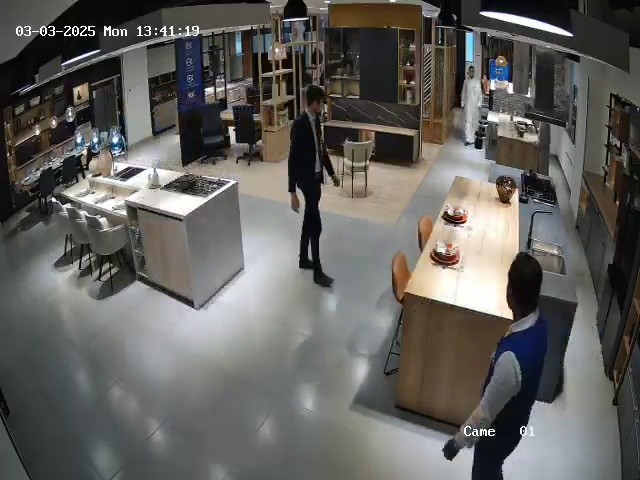employee: (441, 251, 548, 480), (288, 85, 340, 288)
male: (457, 59, 488, 151)
